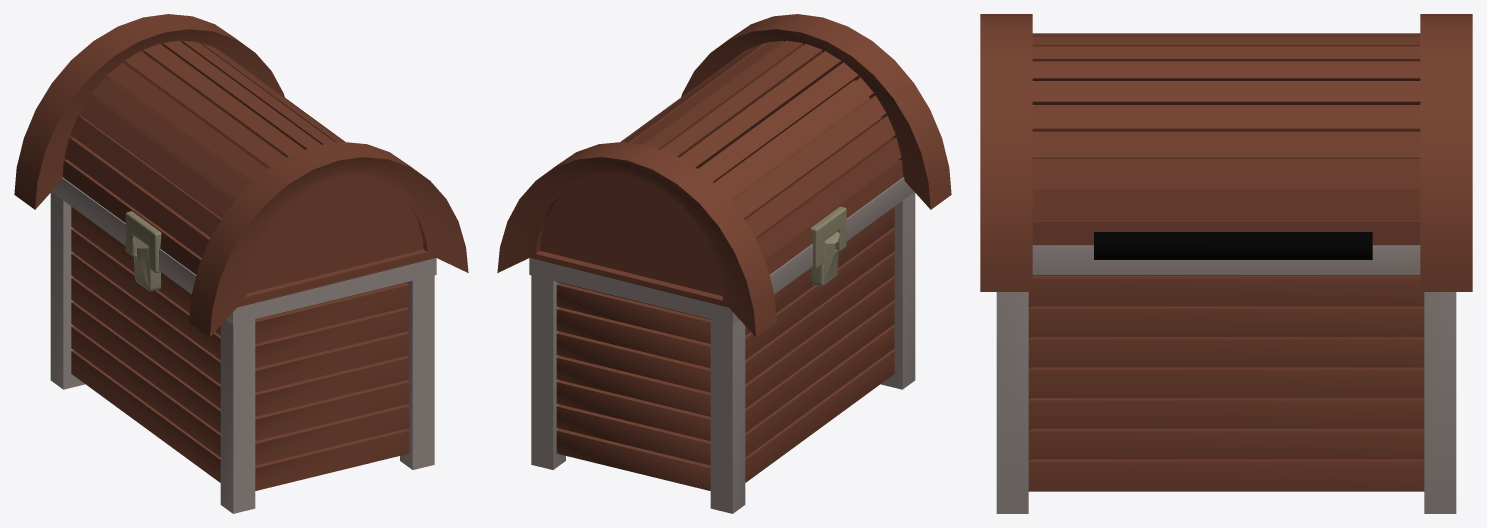
File: chest.fbx
The picture shows the model from 3 angles, left to right: view 1: azimuth 30°, elevation 25°; view 2: azimuth 150°, elevation 25°; view 3: azimuth 270°, elevation 25°; orthographic projection. The views are drawn at different scales.
Parts seen in each view (by area): view 1: cap, chest; view 2: cap, chest; view 3: chest, cap.
Boxes of the visible parts, left/top/right/bottom form: cap: left=14, top=14, right=468, bottom=337; chest: left=50, top=177, right=436, bottom=513; cap: left=497, top=14, right=951, bottom=337; chest: left=529, top=177, right=915, bottom=513; chest: left=996, top=232, right=1456, bottom=513; cap: left=980, top=14, right=1472, bottom=291.
Bounding box in the file's own units: 279 × 344 × 365.
